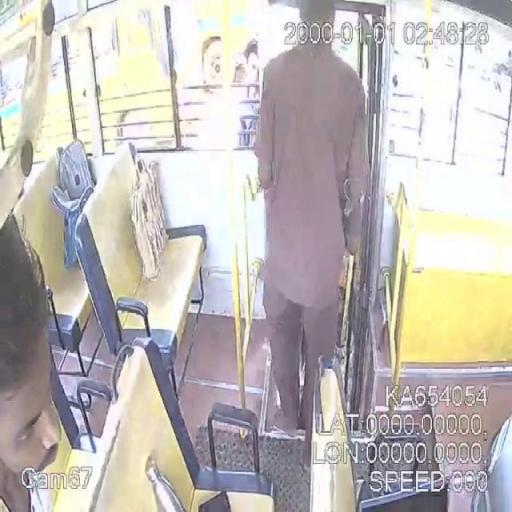persona: (252, 1, 370, 438), (0, 211, 62, 510)
